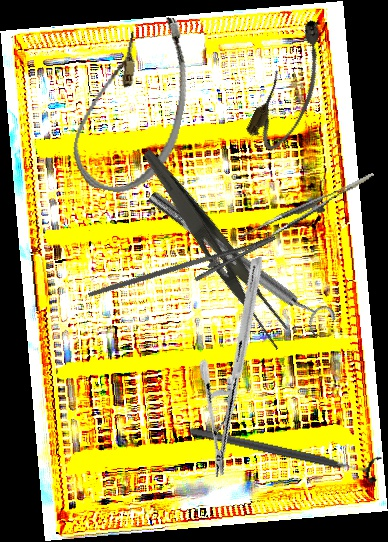Cannula: (66, 3, 202, 203), (242, 14, 343, 157)
Dressing Forceps: (122, 147, 303, 353)
Fixation Ring: (142, 180, 339, 342), (186, 416, 383, 486)
Needle Holder: (151, 256, 325, 478), (87, 213, 283, 333)
Tissue Forceps: (232, 172, 383, 252)
